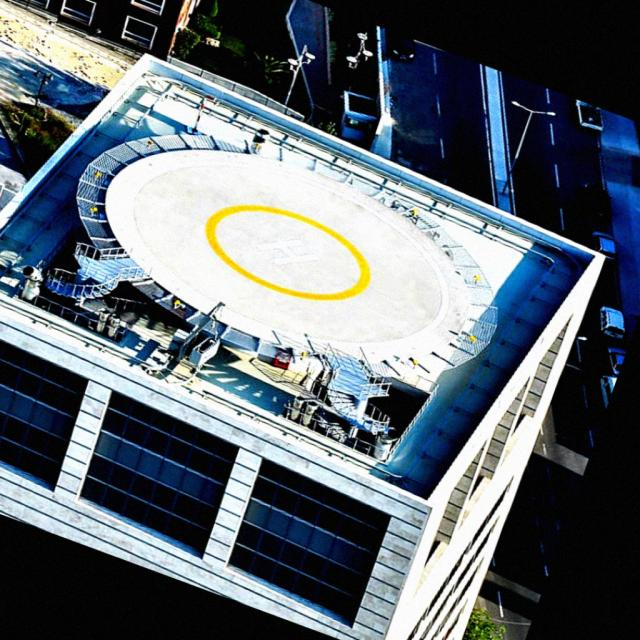helipad: (198, 197, 376, 306)
